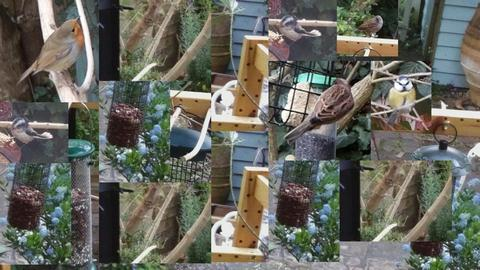blue tit: (385, 76, 416, 124)
dunnock: (351, 15, 383, 38)
long tailed tit: (275, 15, 322, 47), (7, 117, 53, 149)
robin: (15, 15, 84, 89)
sparrow: (284, 76, 356, 146)
